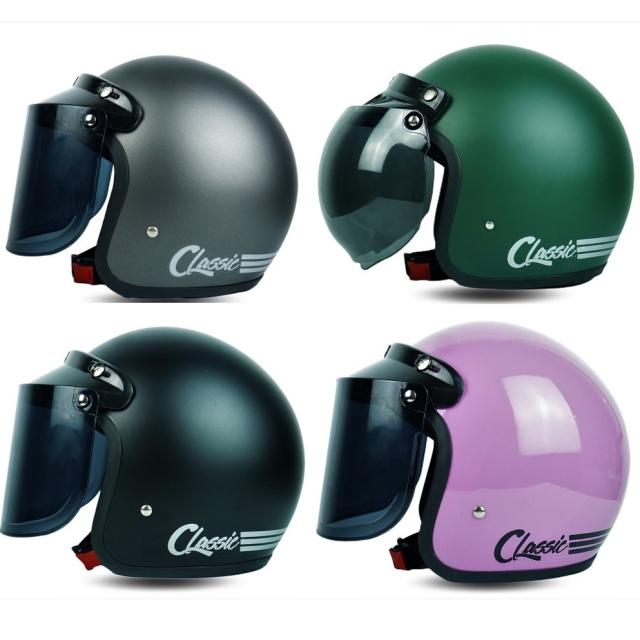Helm: (314, 315, 632, 587), (316, 40, 637, 294), (0, 324, 303, 582), (3, 50, 299, 308)
